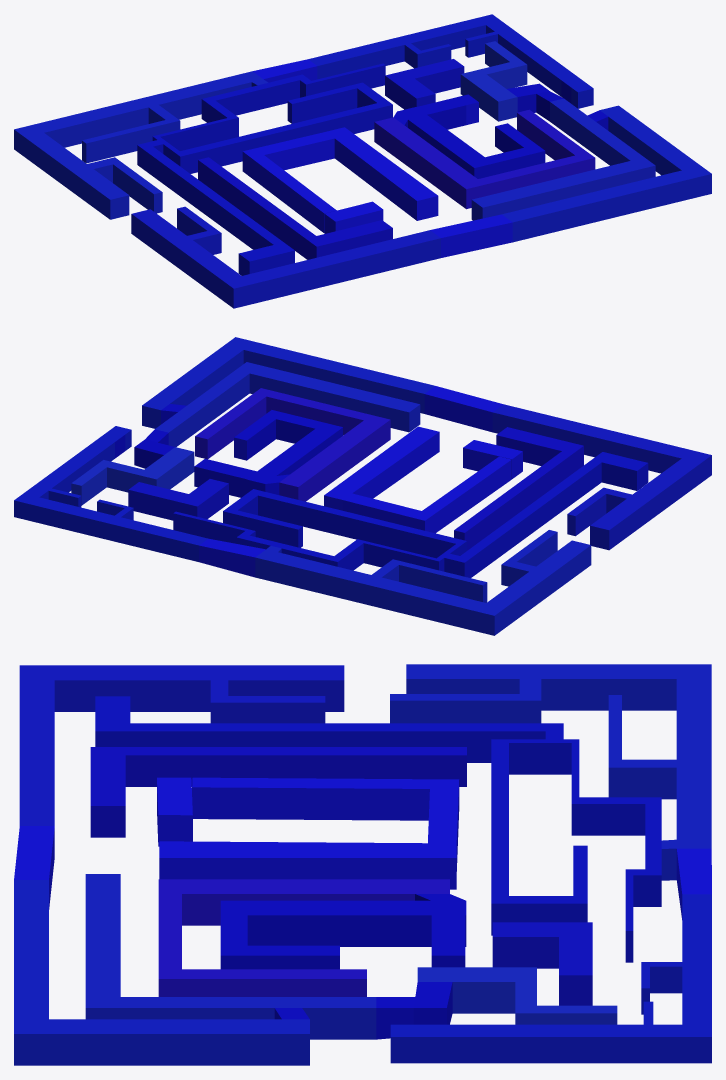
Rendered from cenario.fbx.
The picture shows the model from 3 angles, top to bottom: view 1: azimuth 30°, elevation 25°; view 2: azimuth 150°, elevation 25°; view 3: azimuth 270°, elevation 25°; orthographic projection. The views are drawn at different scales.
Visible parts, largest first — view 1: Cube.007; view 2: Cube.007; view 3: Cube.007.
Boxes of the visible parts, x1,y1,x2,y2 form: Cube.007: (14,14,711,308); Cube.007: (14,337,711,635); Cube.007: (14,664,711,1065).
Bounding box in the file's own units: 6.77 × 0.2707 × 5.4.
